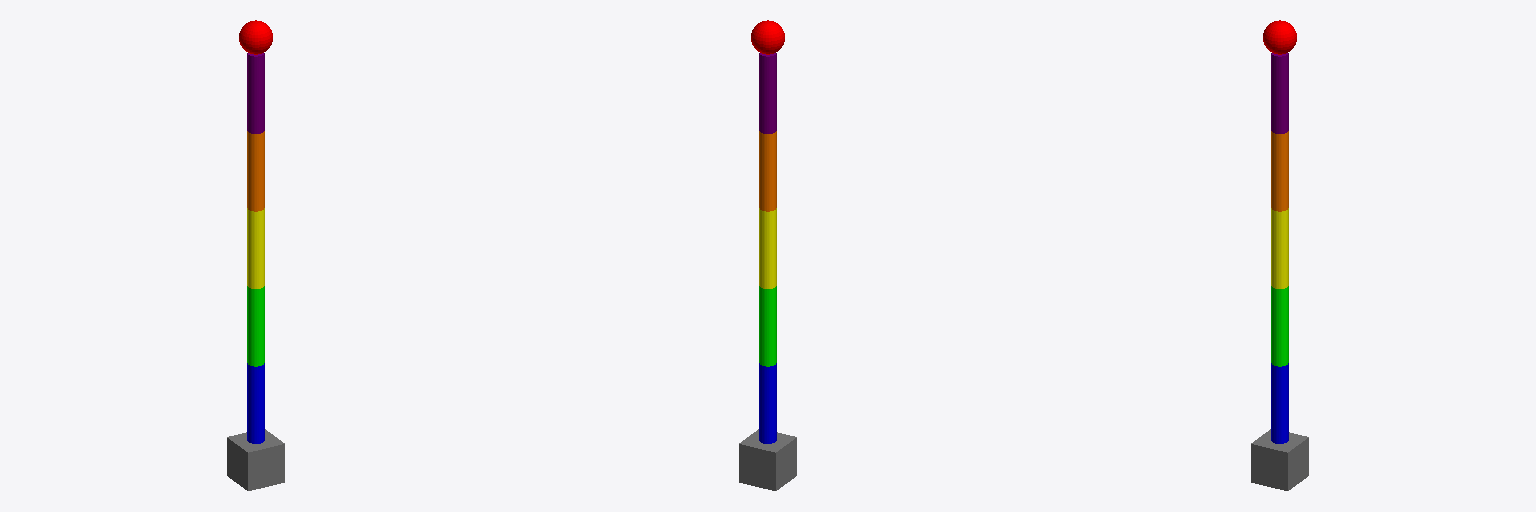
robot.urdf — six_dof_manipulator:
<?xml version="1.0"?>
<robot name="six_dof_manipulator">

  <!-- Base Link -->
  <link name="base_link">
    <visual>
      <origin xyz="0 0 0" rpy="0 0 0"/>
      <geometry>
        <box size="0.25 0.25 0.25"/>
      </geometry>
      <material name="gray">
        <color rgba="0.5 0.5 0.5 1"/>
      </material>
    </visual>
  </link>

  <!-- Joint 1 -->
  <joint name="joint1" type="revolute">
    <parent link="base_link"/>
    <child link="link1"/>
    <origin xyz="0 0 0.125" rpy="0 0 0"/>
    <!-- <axis xyz="1 0 0"/> -->
    <axis xyz="0 0 1"/>
    <limit lower="-3.14" upper="3.14" effort="10" velocity="1"/>
  </joint>

  <!-- Link 1 -->
  <link name="link1">
    <visual>
      <origin xyz="0 0 0.25" rpy="0 0 0"/>
      <geometry>
        <cylinder length="0.5" radius="0.05"/>
      </geometry>
      <material name="blue">
        <color rgba="0 0 1 1"/>
      </material>
    </visual>
    <collision>
      <origin xyz="0 0 0.25" rpy="0 0 0"/>
      <geometry>
        <cylinder length="0.5" radius="0.05"/>
      </geometry>
    </collision>
  </link>

  <!-- Joint 2 -->
  <joint name="joint2" type="revolute">
    <parent link="link1"/>
    <child link="link2"/>
    <origin xyz="0 0 0.5" rpy="0 0 0"/>
    <axis xyz="0 1 0"/>
    <limit lower="-3.14" upper="3.14" effort="10" velocity="1"/>
  </joint>

  <!-- Link 2 -->
  <link name="link2">
    <visual>
      <origin xyz="0 0 0.25" rpy="0 0 0"/>
      <geometry>
        <cylinder length="0.5" radius="0.05"/>
      </geometry>
      <material name="green">
        <color rgba="0 1 0 1"/>
      </material>
    </visual>
    <collision>
      <origin xyz="0 0 0.25" rpy="0 0 0"/>
      <geometry>
        <cylinder length="0.5" radius="0.05"/>
      </geometry>
    </collision>
  </link>

  <!-- Joint 3 -->
  <joint name="joint3" type="revolute">
    <parent link="link2"/>
    <child link="link3"/>
    <origin xyz="0 0 0.5" rpy="0 0 0"/>
    <!-- <axis xyz="1 0 0"/> -->
    <axis xyz="0 1 0"/>
    <limit lower="-3.14" upper="3.14" effort="10" velocity="1"/>
  </joint>

  <!-- Link 3 -->
  <link name="link3">
    <visual>
      <origin xyz="0 0 0.25" rpy="0 0 0"/>
      <geometry>
        <cylinder length="0.5" radius="0.05"/>
      </geometry>
      <material name="yellow">
        <color rgba="1 1 0 1"/>
      </material>
    </visual>
    <collision>
      <origin xyz="0 0 0.25" rpy="0 0 0"/>
      <geometry>
        <cylinder length="0.5" radius="0.05"/>
      </geometry>
    </collision>
  </link>

  <!-- Joint 4 -->
  <joint name="joint4" type="revolute">
    <parent link="link3"/>
    <child link="link4"/>
    <origin xyz="0 0 0.5" rpy="0 0 0"/>
    <!-- <axis xyz="0 1 0"/> -->
    <axis xyz="1 0 0"/>
    <limit lower="-3.14" upper="3.14" effort="10" velocity="1"/>
  </joint>

  <!-- Link 4 -->
  <link name="link4">
    <visual>
      <origin xyz="0 0 0.25" rpy="0 0 0"/>
      <geometry>
        <cylinder length="0.5" radius="0.05"/>
      </geometry>
      <material name="orange">
        <color rgba="1 0.5 0 1"/>
      </material>
    </visual>
    <collision>
      <origin xyz="0 0 0.25" rpy="0 0 0"/>
      <geometry>
        <cylinder length="0.5" radius="0.05"/>
      </geometry>
    </collision>
  </link>

  <!-- Joint 5 -->
  <joint name="joint5" type="revolute">
    <parent link="link4"/>
    <child link="link5"/>
    <origin xyz="0 0 0.5" rpy="0 0 0"/>
    <!-- <axis xyz="1 0 0"/> -->
    <axis xyz="0 1 0"/>
    <limit lower="-3.14" upper="3.14" effort="10" velocity="1"/>
  </joint>

  <!-- Link 5 -->
  <link name="link5">
    <visual>
      <origin xyz="0 0 0.25" rpy="0 0 0"/>
      <geometry>
        <cylinder length="0.5" radius="0.05"/>
      </geometry>
      <material name="purple">
        <color rgba="0.5 0 0.5 1"/>
      </material>
    </visual>
    <collision>
      <origin xyz="0 0 0.25" rpy="0 0 0"/>
      <geometry>
        <cylinder length="0.5" radius="0.05"/>
      </geometry>
    </collision>
  </link>

  <!-- Joint 6 -->
  <joint name="joint6" type="revolute">
    <parent link="link5"/>
    <child link="end_effector"/>
    <origin xyz="0 0 0.5" rpy="0 0 0"/>
    <!-- <axis xyz="0 0 1"/> -->
    <axis xyz="1 0 0"/>
    <limit lower="-3.14" upper="3.14" effort="10" velocity="1"/>
  </joint>

  <!-- End Effector -->
  <link name="end_effector">
    <visual>
      <origin xyz="0 0 0.1" rpy="0 0 0"/>
      <geometry>
        <sphere radius="0.1"/>
      </geometry>
      <material name="red">
        <color rgba="1 0 0 1"/>
      </material>
    </visual>
  </link>

</robot>

--- What the picture shows (computed from the rendered views, not written in the file) ---
Views: 3 orthographic renders of the robot side by side, from view 1: azimuth 30°, elevation 25°; view 2: azimuth 150°, elevation 25°; view 3: azimuth 330°, elevation 25°.
Model six_dof_manipulator with 7 links and 6 joints (6 revolute), rooted at base_link, posed all joints at 0.
Visible links, largest first — view 1: base_link, link5, link3, link1, link2, link4, end_effector; view 2: base_link, link5, link3, link1, link2, link4, end_effector; view 3: base_link, link5, link3, link1, link2, link4, end_effector.
Boxes of the visible links, left/top/right/bottom form: base_link: left=227, top=429, right=284, bottom=490; link5: left=247, top=53, right=264, bottom=133; link3: left=247, top=208, right=264, bottom=288; link1: left=247, top=363, right=264, bottom=443; link2: left=247, top=286, right=264, bottom=366; link4: left=247, top=131, right=264, bottom=211; end_effector: left=239, top=20, right=272, bottom=54; base_link: left=739, top=429, right=796, bottom=490; link5: left=759, top=53, right=776, bottom=133; link3: left=759, top=208, right=776, bottom=288; link1: left=759, top=363, right=776, bottom=443; link2: left=759, top=286, right=776, bottom=366; link4: left=759, top=131, right=776, bottom=211; end_effector: left=751, top=20, right=784, bottom=54; base_link: left=1251, top=429, right=1308, bottom=490; link5: left=1271, top=53, right=1288, bottom=133; link3: left=1271, top=208, right=1288, bottom=288; link1: left=1271, top=363, right=1288, bottom=443; link2: left=1271, top=286, right=1288, bottom=366; link4: left=1271, top=131, right=1288, bottom=211; end_effector: left=1263, top=20, right=1296, bottom=54.
Size in the robot's own frame: 0.25 by 0.25 by 2.95 metres.
Geometry: primitives only (box / cylinder / sphere), no mesh files.